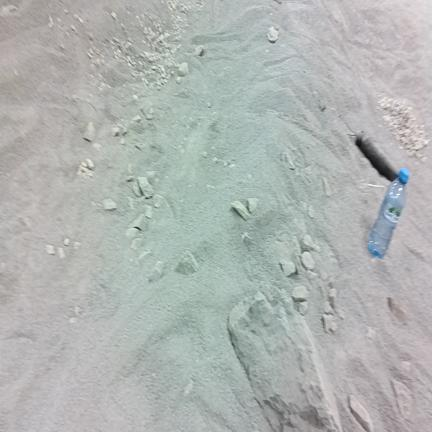Rock: (229, 292, 341, 431), (349, 395, 373, 431), (393, 380, 412, 418), (175, 252, 199, 276), (388, 298, 407, 324), (275, 242, 292, 265), (231, 201, 250, 220), (138, 177, 154, 198), (149, 261, 164, 281), (130, 214, 147, 231), (301, 251, 315, 270), (280, 260, 296, 276), (322, 314, 336, 332), (292, 286, 308, 301), (282, 152, 295, 169), (327, 288, 337, 309), (84, 122, 95, 141), (301, 235, 314, 251), (0, 5, 17, 17), (140, 105, 153, 120), (267, 27, 278, 43), (132, 181, 142, 197), (126, 227, 140, 238), (103, 199, 117, 210), (177, 62, 188, 76), (323, 178, 331, 196), (298, 301, 308, 315), (248, 198, 258, 212), (131, 238, 142, 250), (402, 361, 412, 374), (324, 301, 334, 314), (153, 194, 162, 208), (139, 250, 151, 260), (147, 171, 156, 184), (242, 233, 251, 246), (367, 327, 376, 339), (195, 45, 204, 56), (307, 205, 314, 218), (145, 205, 152, 218), (86, 159, 94, 170), (58, 247, 65, 259), (46, 245, 55, 254), (337, 309, 345, 319), (112, 127, 120, 136), (92, 143, 101, 151), (132, 115, 141, 122), (119, 138, 126, 146), (73, 242, 80, 250), (126, 176, 135, 182), (202, 150, 208, 158), (64, 238, 70, 246), (71, 25, 76, 32), (111, 12, 116, 19), (176, 76, 181, 83)
